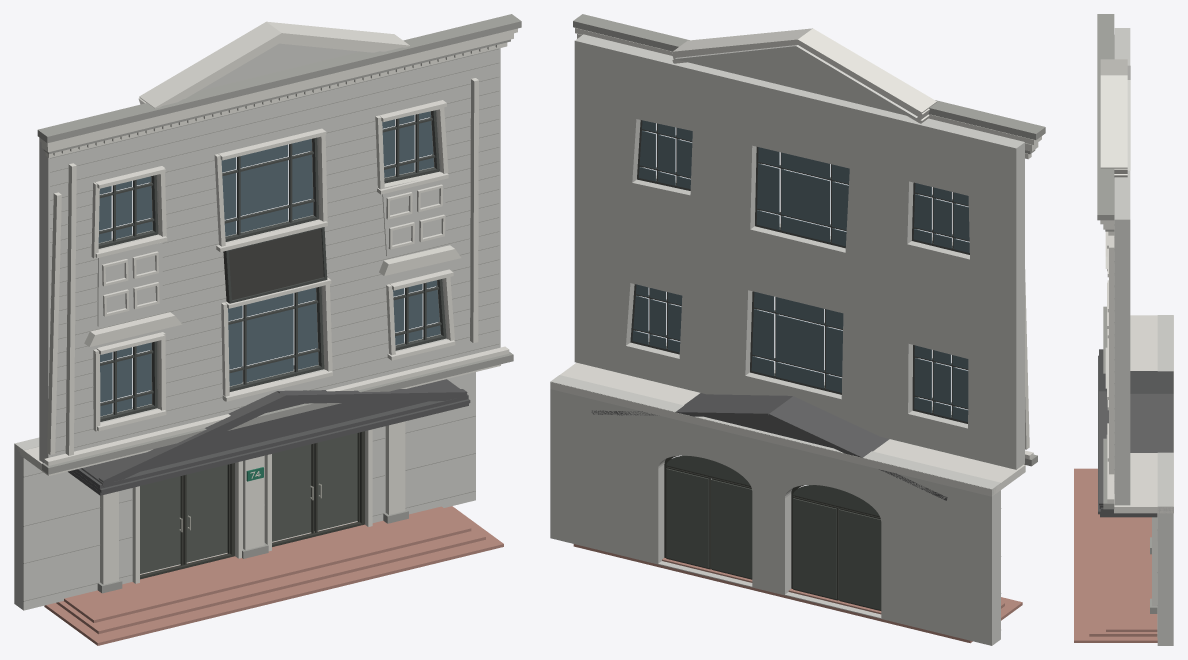
File: full-source.glb
3 views of the same model, side by side, from view 1: azimuth 30°, elevation 25°; view 2: azimuth 150°, elevation 25°; view 3: azimuth 270°, elevation 25° (orthographic). The views are drawn at different scales.
Parts seen in each view (by area): view 1: 泰安路74号上海市质量协会临街面; view 2: 泰安路74号上海市质量协会临街面; view 3: 泰安路74号上海市质量协会临街面.
Boxes of the visible parts, x1,y1,x2,y2 form: 泰安路74号上海市质量协会临街面: (14, 14, 521, 645); 泰安路74号上海市质量协会临街面: (550, 14, 1045, 645); 泰安路74号上海市质量协会临街面: (1074, 14, 1173, 645).
Bounding box in the file's own units: 12.5 × 13.93 × 2.62.
